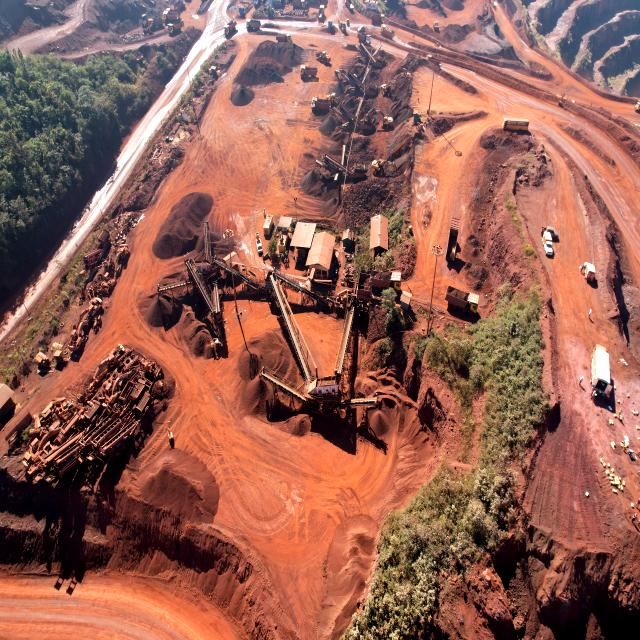Dumper truck: (446, 287, 479, 314), (447, 217, 459, 263), (380, 23, 394, 39), (300, 66, 317, 78), (224, 20, 237, 35), (168, 21, 181, 36), (358, 31, 371, 45), (148, 17, 164, 28), (163, 11, 177, 22), (277, 33, 292, 43), (246, 20, 261, 30), (371, 13, 386, 22), (339, 18, 347, 33), (173, 0, 185, 10), (317, 4, 325, 18), (293, 0, 305, 9), (345, 0, 354, 11), (489, 0, 498, 9), (635, 100, 640, 112)
Excavator: (68, 308, 90, 353), (367, 107, 393, 128), (372, 159, 398, 176), (380, 80, 398, 98), (427, 53, 442, 67)
car: (543, 232, 553, 256), (584, 262, 596, 280), (551, 228, 559, 239)
person: (579, 376, 584, 387), (591, 391, 596, 401), (580, 264, 584, 273), (618, 409, 622, 418), (588, 309, 592, 317), (232, 15, 235, 20)
